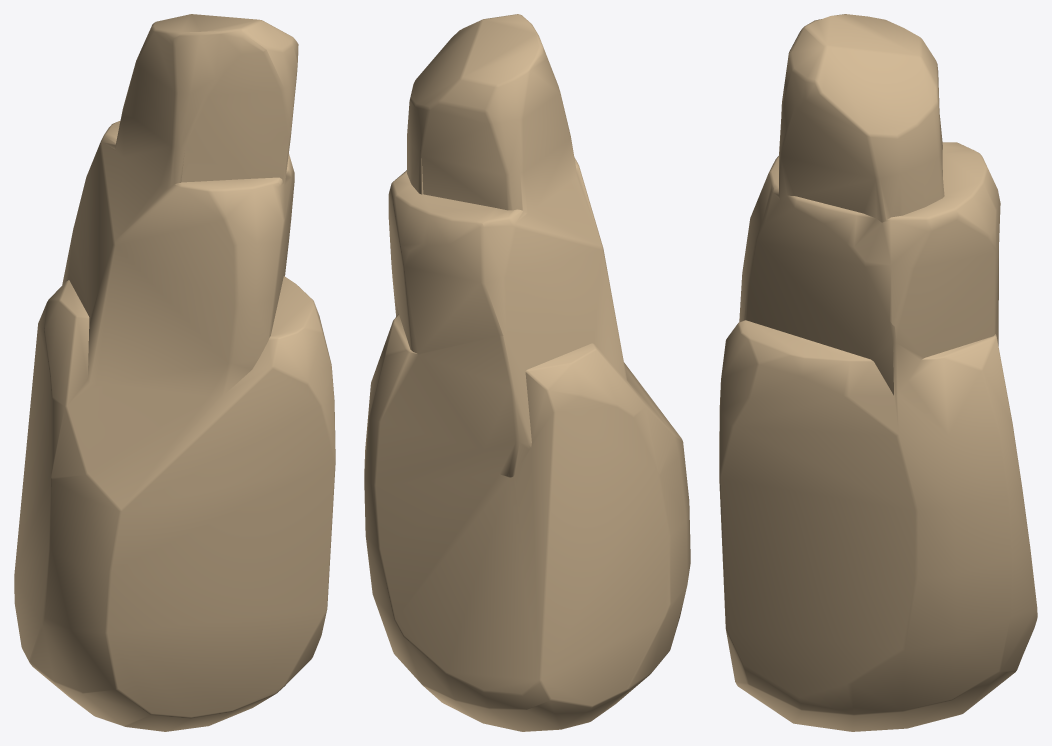
The model's file is rock_stack_02.glb.
3 renders of one model, left to right at view 1: azimuth 30°, elevation 25°; view 2: azimuth 150°, elevation 25°; view 3: azimuth 270°, elevation 25°, orthographic. The views are drawn at different scales.
Visible parts, largest first — view 1: rock_stack_02; view 2: rock_stack_02; view 3: rock_stack_02.
Boxes of the visible parts, left/top/right/bottom form: rock_stack_02: left=14, top=14, right=335, bottom=731; rock_stack_02: left=364, top=14, right=690, bottom=731; rock_stack_02: left=719, top=14, right=1037, bottom=731.
Bounding box in the file's own units: 2.5 × 6.05 × 2.45.
